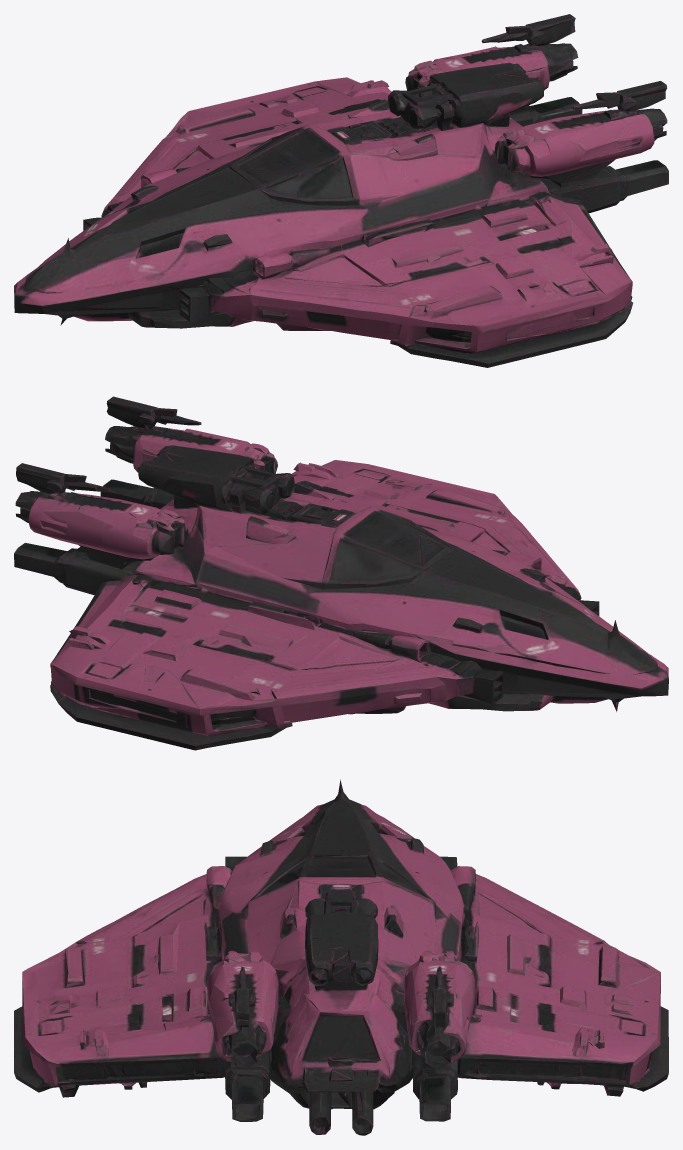
File: enemy-pluto-capital.glb
The picture shows the model from 3 angles, top to bottom: view 1: azimuth 30°, elevation 25°; view 2: azimuth 150°, elevation 25°; view 3: azimuth 270°, elevation 25°; orthographic projection. The views are drawn at different scales.
Bounding box in the file's own units: 1.9 × 0.4645 × 1.64.
Materials: 1 (1 with a texture image).
